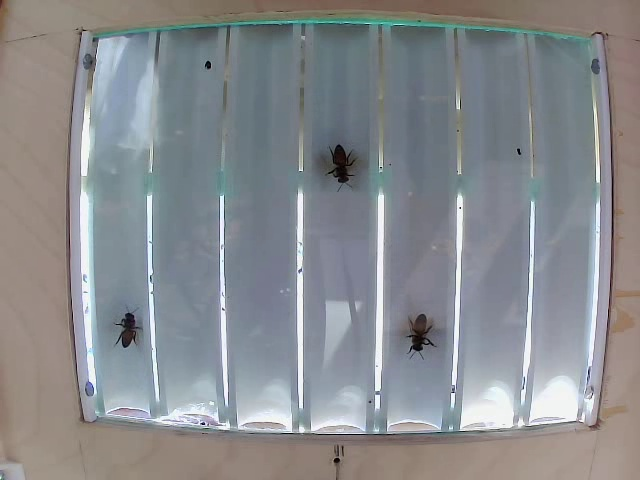bee: (322, 141, 364, 194), (409, 304, 442, 355), (109, 309, 141, 347)
